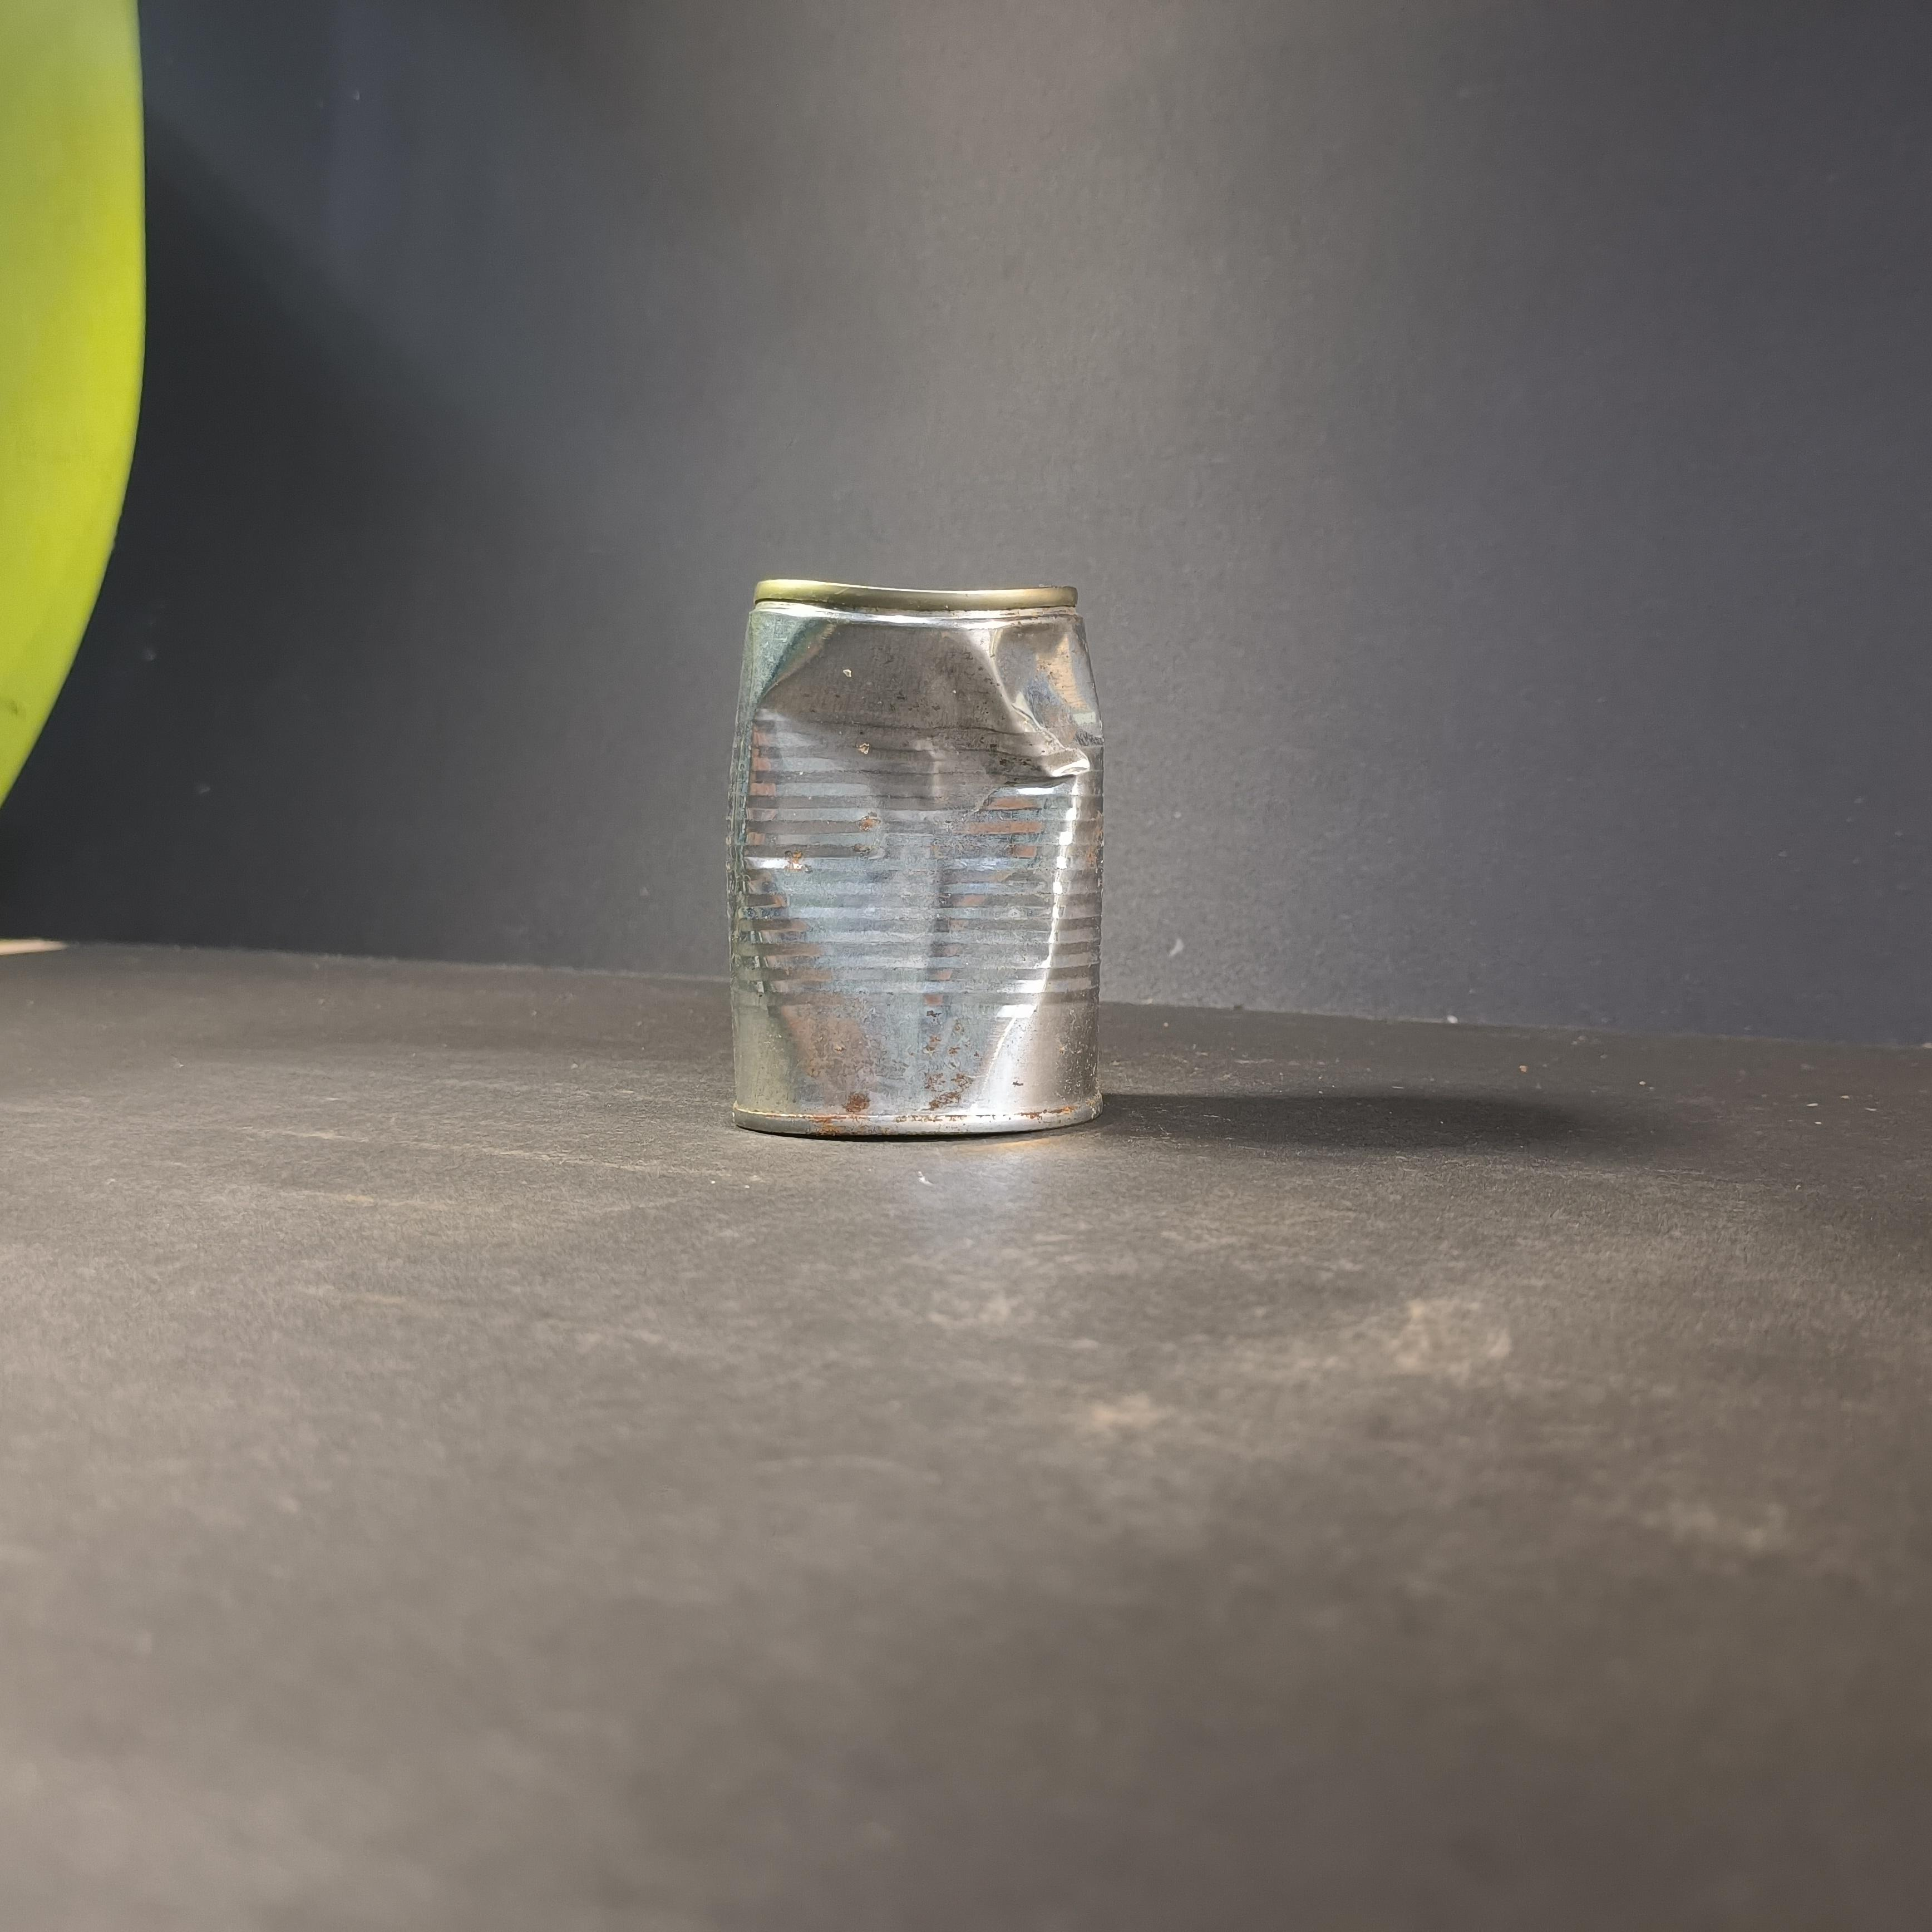Dented: (699, 550, 1122, 1152)
